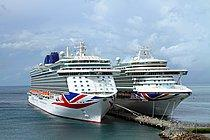Ship: (25, 39, 122, 127), (111, 46, 196, 128)
